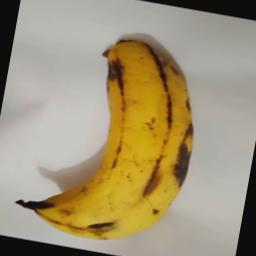Banana Unripe: (0, 18, 216, 256)
